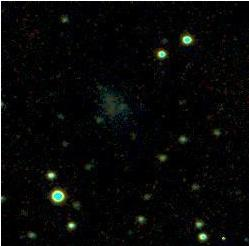star: (212, 216, 242, 246)
